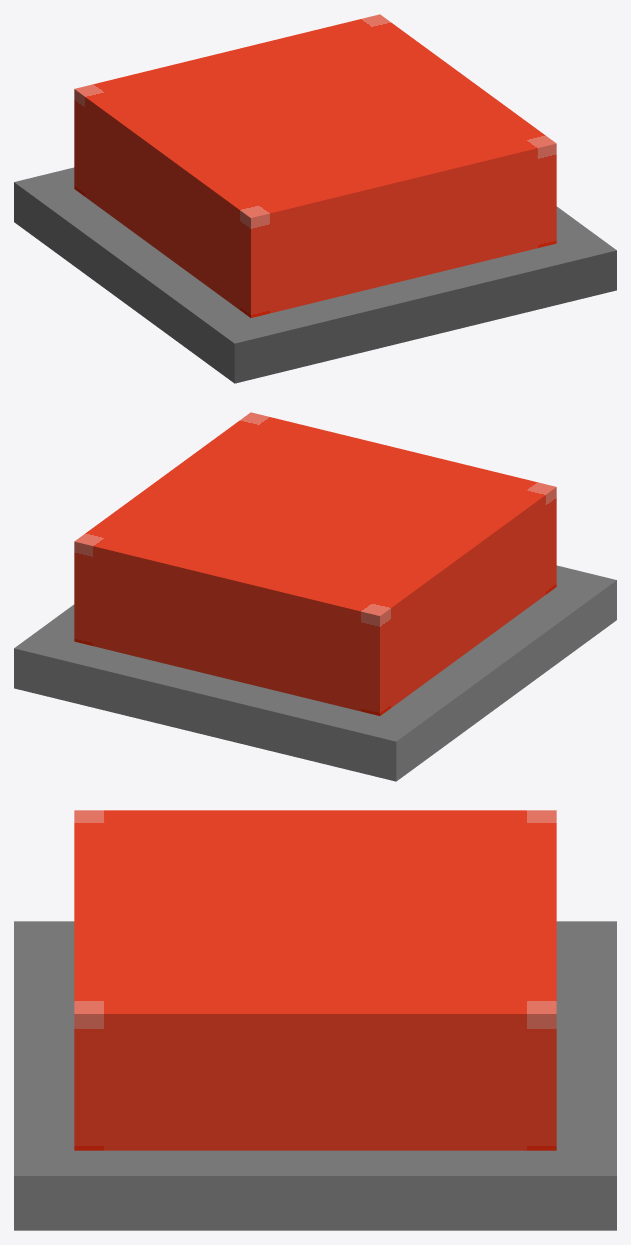
Rendered from button-0.fbx.
3 views of the same model, one above another, from view 1: azimuth 30°, elevation 25°; view 2: azimuth 150°, elevation 25°; view 3: azimuth 270°, elevation 25° (orthographic). The views are drawn at different scales.
Visible parts, largest first — view 1: cube_4, cube_3, cube_1, cube; view 2: cube_4, cube_2, cube_1, cube; view 3: cube_4, cube, cube_2, cube_3, cube_1.
Boxes of the visible parts, bbox=[...] form: cube_4: bbox=[74, 14, 556, 317]; cube_3: bbox=[251, 243, 578, 374]; cube_1: bbox=[14, 173, 272, 383]; cube: bbox=[556, 206, 616, 299]; cube_4: bbox=[74, 412, 556, 715]; cube_2: bbox=[52, 641, 379, 772]; cube_1: bbox=[358, 571, 616, 781]; cube: bbox=[14, 604, 74, 697]; cube_4: bbox=[74, 810, 556, 1150]; cube: bbox=[14, 1150, 616, 1230]; cube_2: bbox=[556, 946, 616, 1150]; cube_3: bbox=[14, 946, 74, 1150]; cube_1: bbox=[14, 921, 616, 946].
Size of the model in its own units: 62.5 by 21.88 by 62.5.
1 material, 1 textured.
